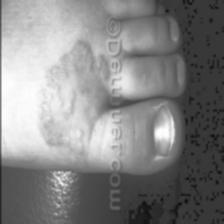Unclassified: (34, 37, 104, 154)
